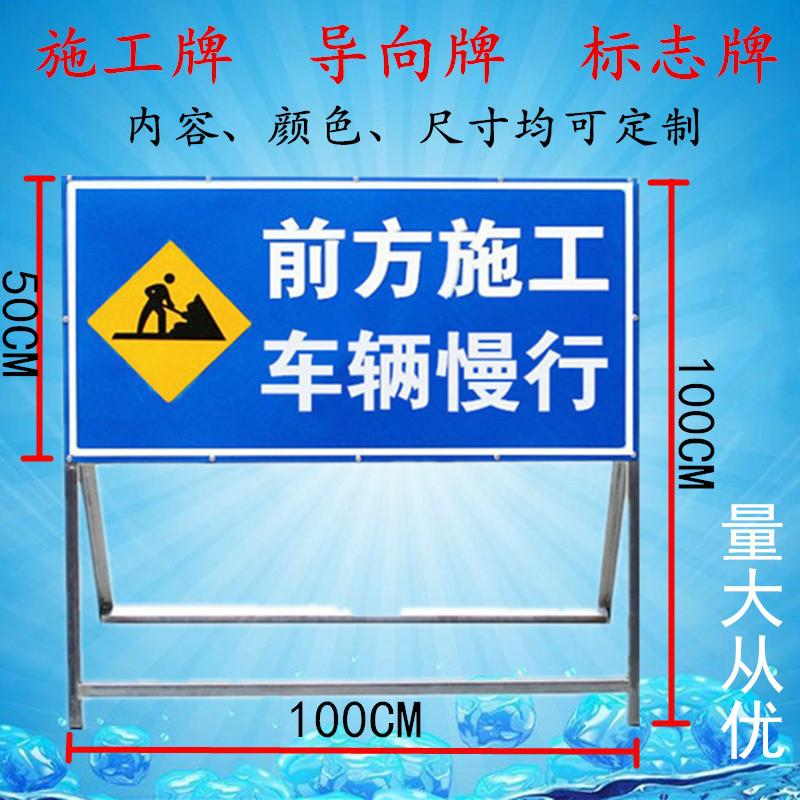sign: (68, 177, 637, 460)
